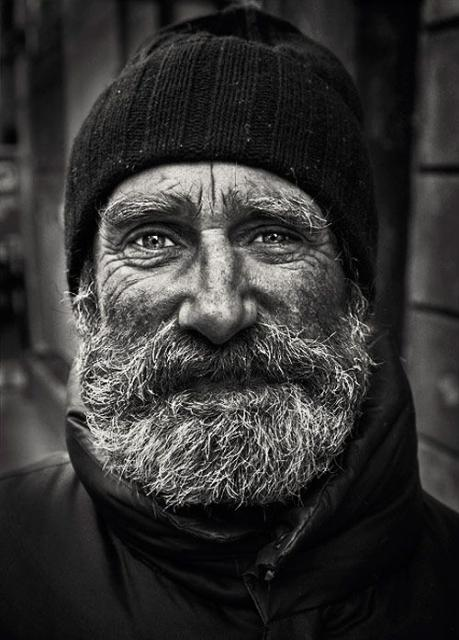crows_feet: (98, 234, 124, 278), (299, 233, 329, 270)
frown_line: (194, 173, 228, 214)
